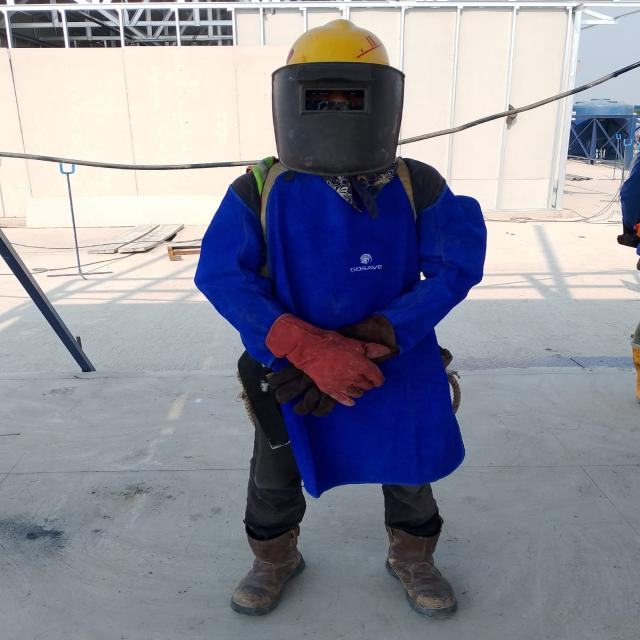gloves: (274, 312, 390, 397)
helmet: (278, 12, 402, 67)
